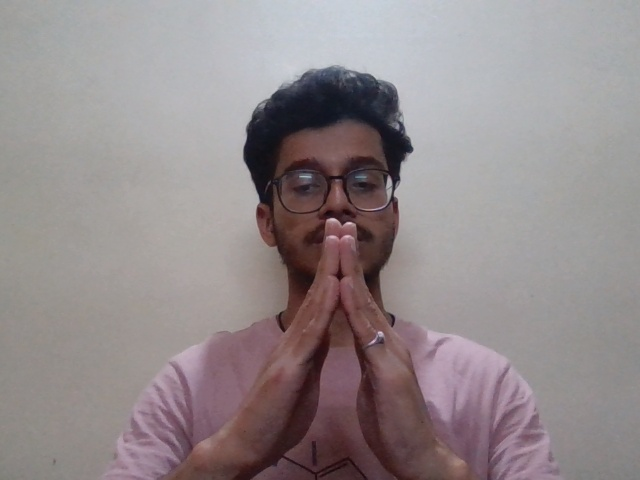home: (228, 219, 455, 467)
